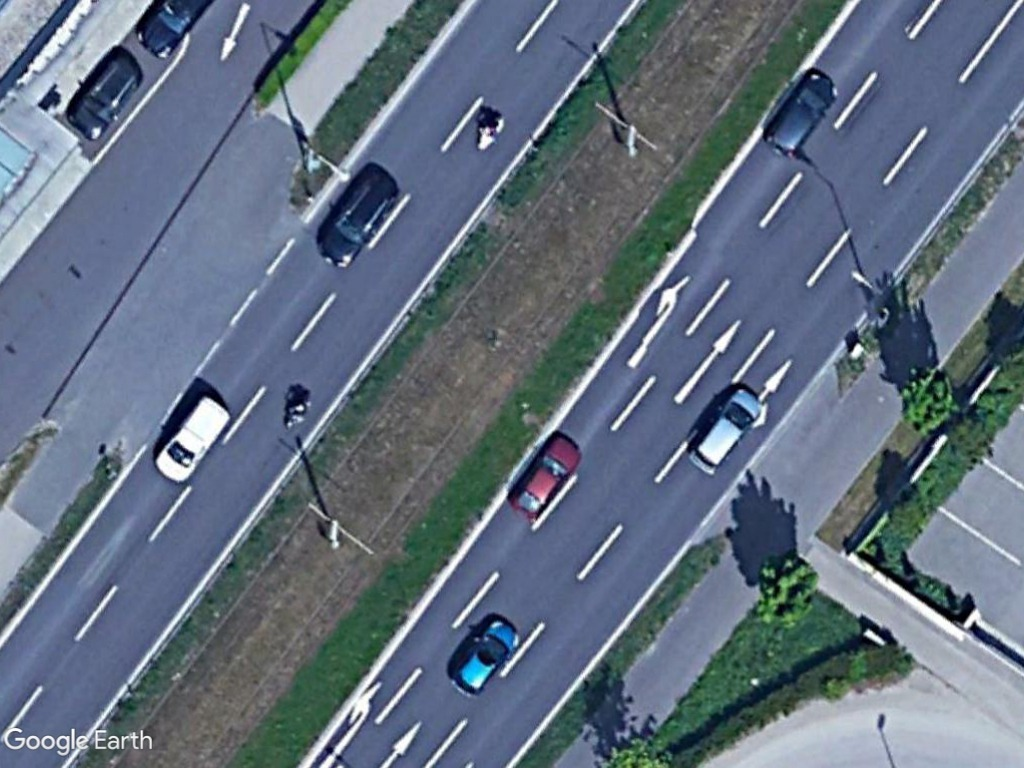car: (312, 168, 399, 271), (683, 381, 768, 477), (504, 429, 584, 525), (758, 69, 842, 159), (64, 51, 145, 142), (447, 616, 521, 698)
van: (154, 392, 232, 486)
